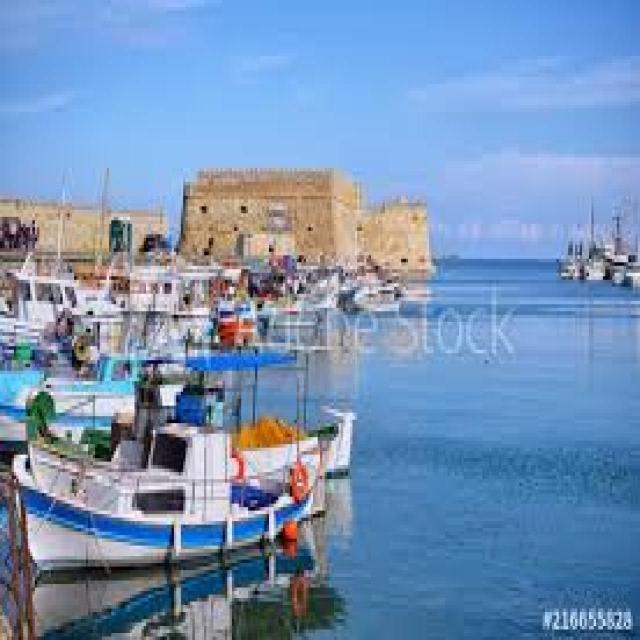Kules: (177, 144, 439, 282)
